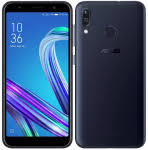asus: (72, 1, 147, 148), (1, 1, 74, 148)
